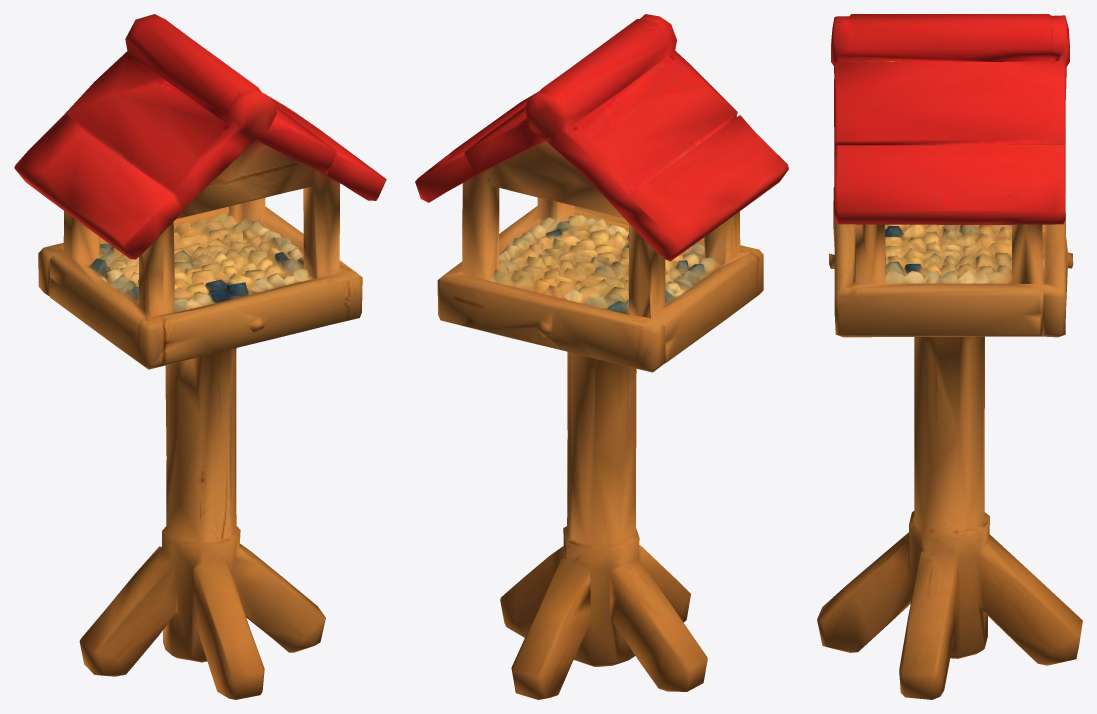
The model's file is birdfeeder.glb.
The picture shows the model from 3 angles, left to right: view 1: azimuth 30°, elevation 25°; view 2: azimuth 150°, elevation 25°; view 3: azimuth 270°, elevation 25°; orthographic projection. The views are drawn at different scales.
Visible parts, largest first — view 1: model; view 2: model; view 3: model.
Boxes of the visible parts, <box> form: model: <box>14,14,386,699</box>; model: <box>415,14,788,699</box>; model: <box>817,14,1082,699</box>.
Bounding box in the file's own units: 0.8787 × 1.9 × 0.7186.
Materials: 1 (1 with a texture image).
